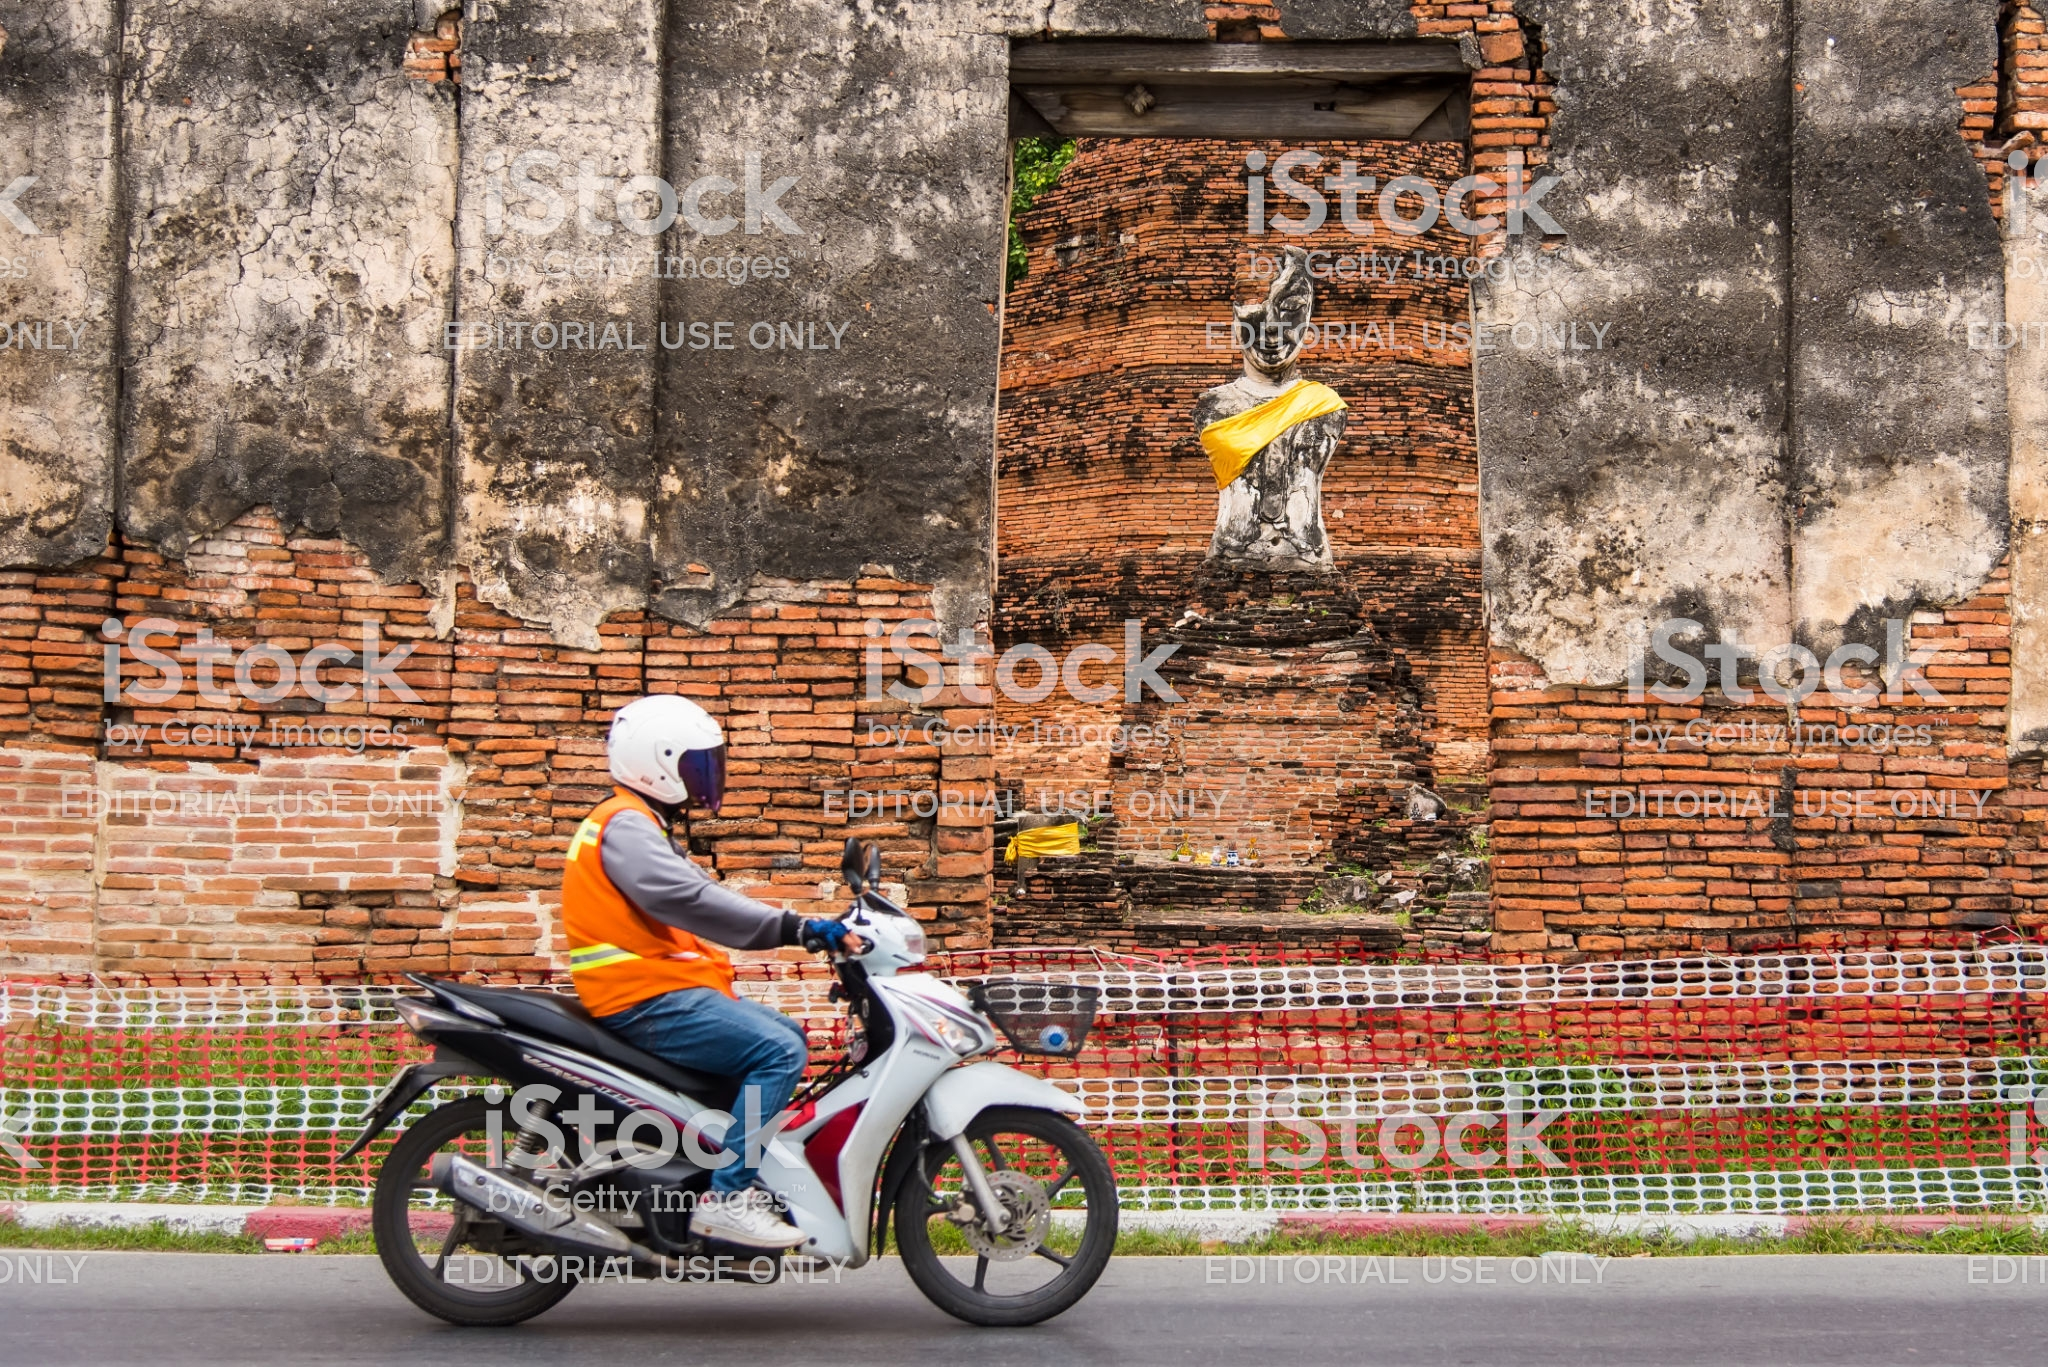helmet: (604, 659, 738, 806)
